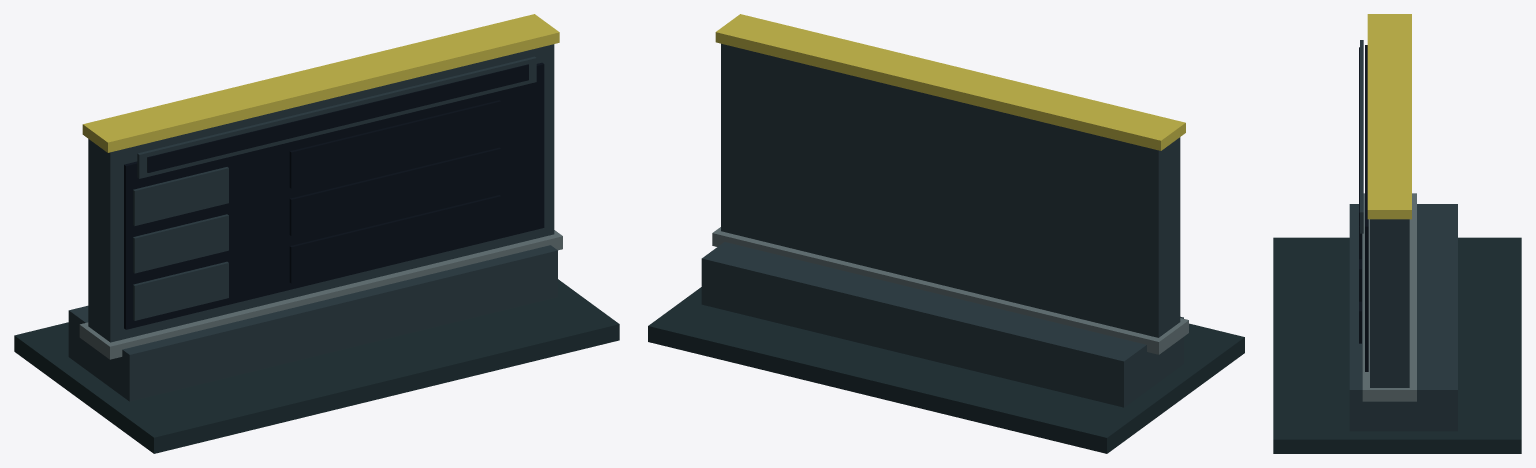
Rendered from flipdot_rivalry_d0_lod2.meshopt.glb.
The picture shows the model from 3 angles, left to right: view 1: azimuth 30°, elevation 25°; view 2: azimuth 150°, elevation 25°; view 3: azimuth 270°, elevation 25°; orthographic projection. The views are drawn at different scales.
Visible parts, largest first — view 1: RIVALRY_DISTANCE_GEOMETRY; view 2: RIVALRY_DISTANCE_GEOMETRY; view 3: RIVALRY_DISTANCE_GEOMETRY.
Part boxes in pixels (left/top/right/bottom): RIVALRY_DISTANCE_GEOMETRY: left=14, top=14, right=619, bottom=453; RIVALRY_DISTANCE_GEOMETRY: left=648, top=14, right=1244, bottom=453; RIVALRY_DISTANCE_GEOMETRY: left=1273, top=14, right=1521, bottom=453.
Bounding box in the file's own units: 7.5 × 4.17 × 3.9.
